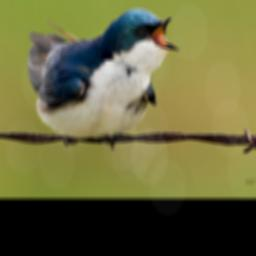Swallow: (26, 4, 184, 149)
